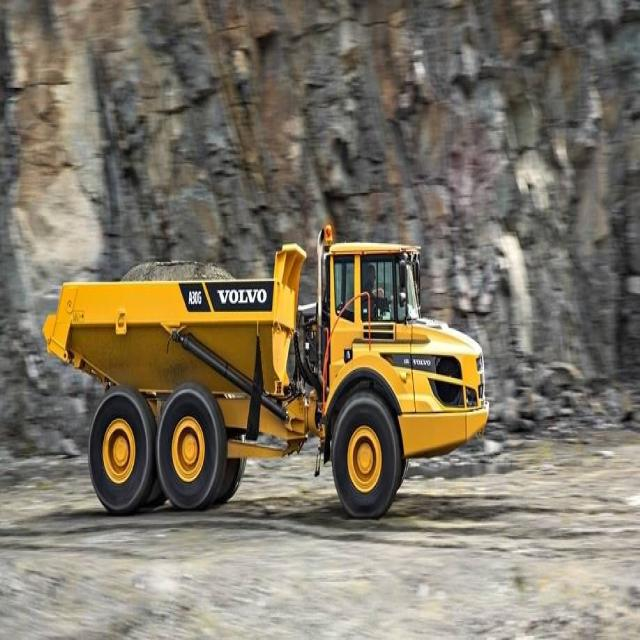dump_truck: (41, 210, 493, 534)
